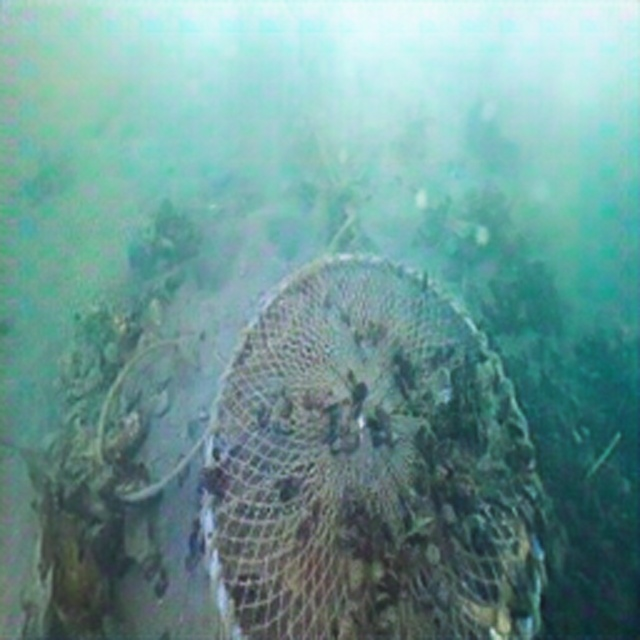mine: (199, 248, 547, 639)
